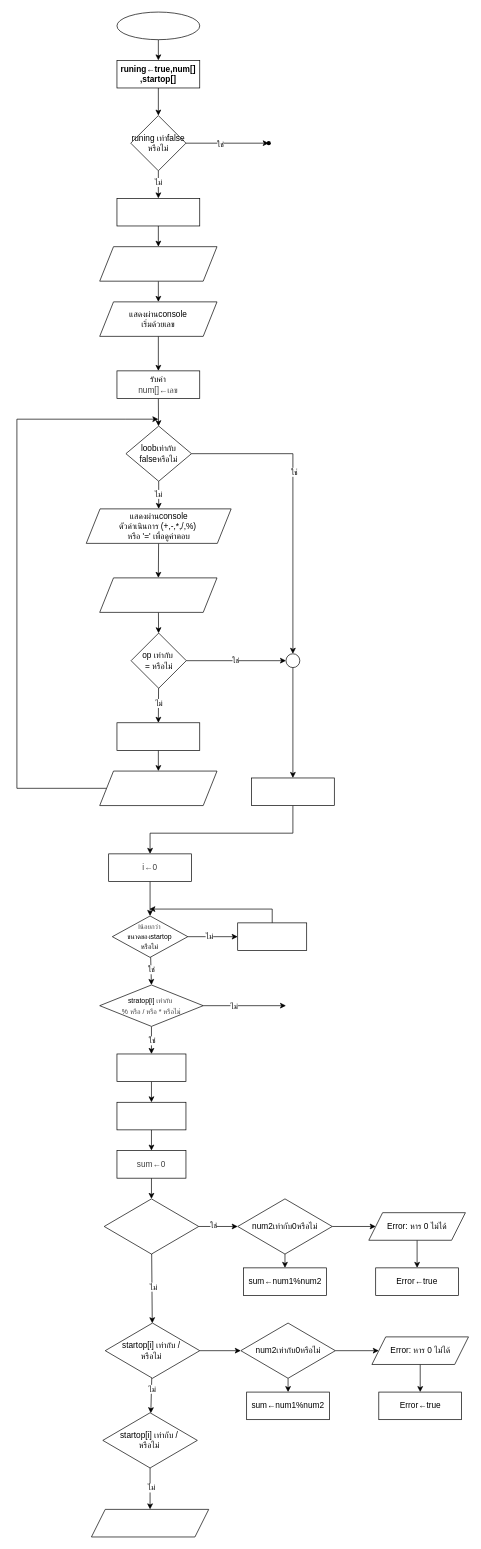
The diagram is 481 pixels wide and 1549 high, and some of its shapes have lost their labels. The shapes that lost their labels are listed below. From the top down, each one's box as (x1, y1, x2, y2) in pixels, then its label:
(116, 11, 200, 40): เริ่ม
(116, 198, 200, 226): Error←false loop←true
(99, 246, 217, 281): แสดงผ่านconsole ---------เครื่องคิดเลข---------
(99, 577, 217, 612): รับค่า op← ตัวดำเนินการ
(116, 722, 200, 750): startop[]←op
(99, 770, 217, 806): แสดงผ่านconsole เลขถัดไป
(251, 777, 334, 806): หยุด
(237, 922, 307, 950): เพิ่ม i ขึ้นหนึ่งค่า
(116, 1053, 186, 1082): num1←num[i]
(116, 1102, 186, 1130): num2←num[i+1]
(103, 1198, 199, 1254): startop[i] เท่ากับ % หรือไม่
